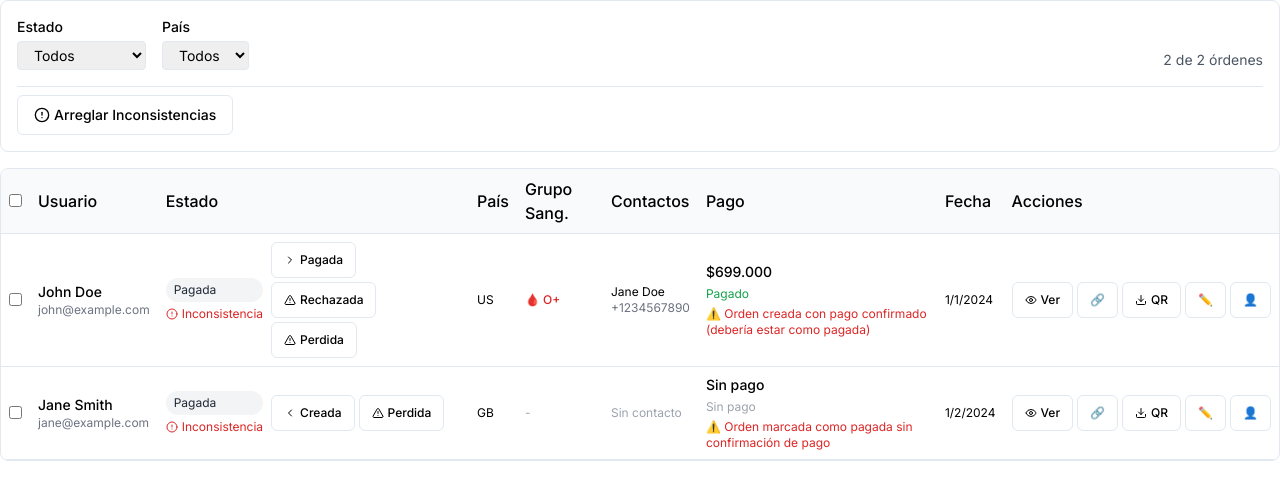
Scenario: OrdersTable › filters orders by status
The width and height of the screenshot is (1280, 478).
Get the first filter dropdown (status filter)
Select "Creada" in the 1st dropdown showing "Todos". click: [82, 56]
box: 17,41 -> 146,70
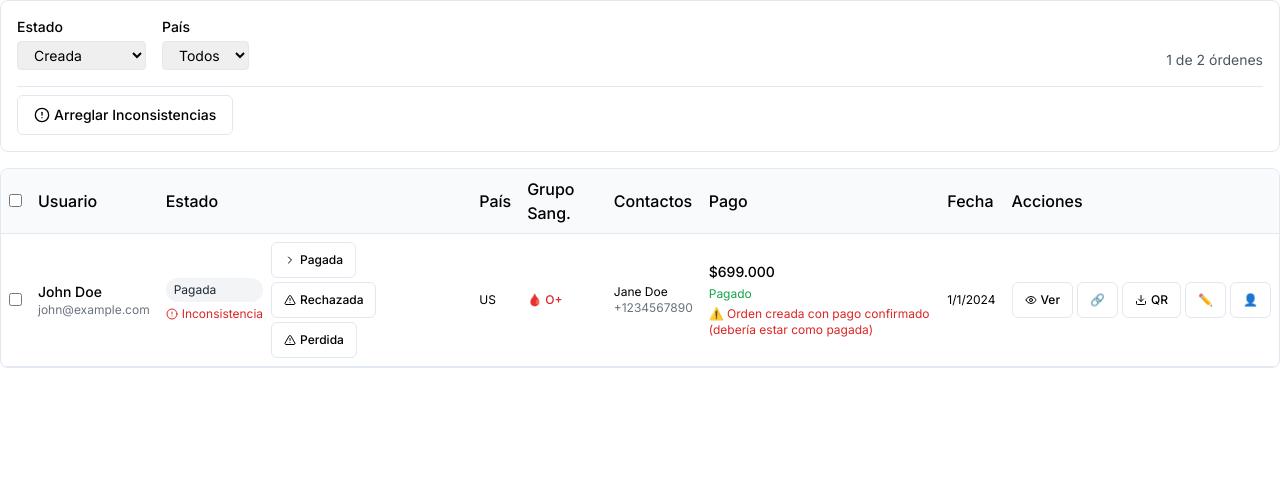
Expected: the text "john@example.com" is shown 2 times
Expected: the text "jane@example.com" is gone
